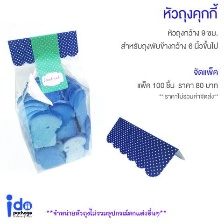snack: (1, 23, 98, 177)
